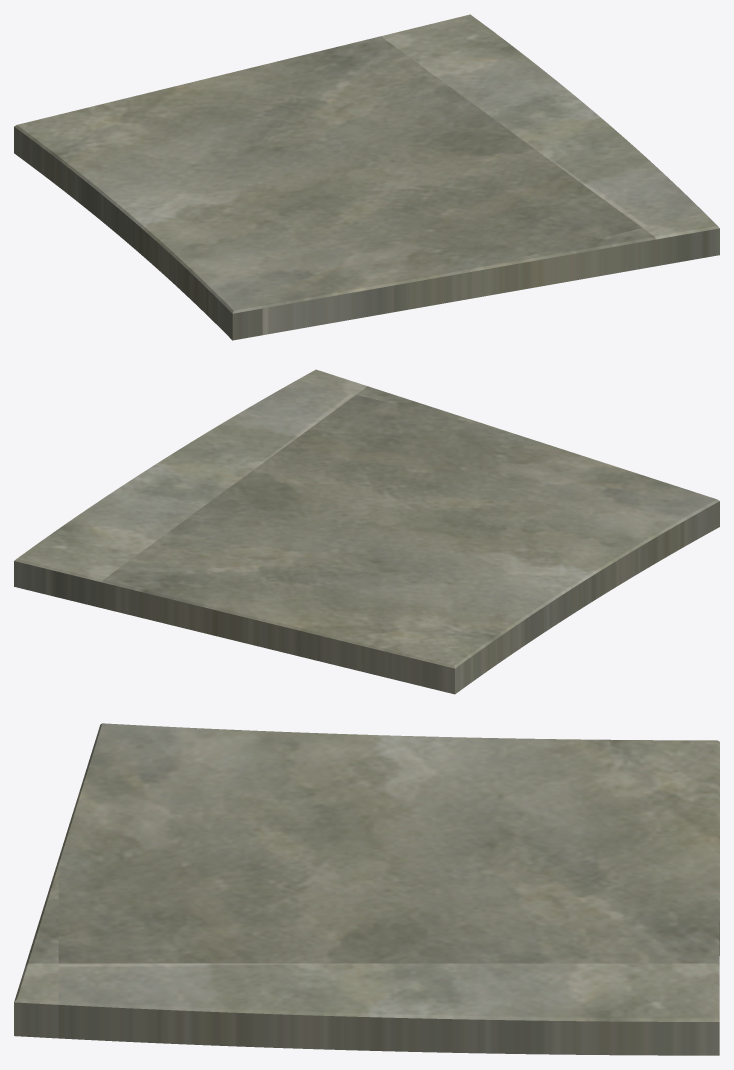
File: f03-s-stone-radial-wedge.glb
The picture shows the model from 3 angles, top to bottom: view 1: azimuth 30°, elevation 25°; view 2: azimuth 150°, elevation 25°; view 3: azimuth 270°, elevation 25°; orthographic projection. The views are drawn at different scales.
Visible parts, largest first — view 1: f03-s-stone-radial-wedge; view 2: f03-s-stone-radial-wedge; view 3: f03-s-stone-radial-wedge.
Boxes of the visible parts, left/top/right/bottom form: f03-s-stone-radial-wedge: left=14, top=14, right=719, bottom=340; f03-s-stone-radial-wedge: left=14, top=369, right=719, bottom=694; f03-s-stone-radial-wedge: left=14, top=723, right=719, bottom=1055.
Bounding box in the file's own units: 1.06 × 0.06 × 1.06.
Materials: 1 (1 with a texture image).
